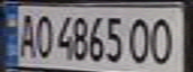4: (54, 11, 72, 61)
5: (103, 12, 127, 64)
6: (87, 12, 109, 63)
8: (69, 12, 90, 62)
A: (12, 9, 39, 60)
O: (145, 12, 181, 68), (124, 14, 154, 65), (30, 11, 54, 60)
